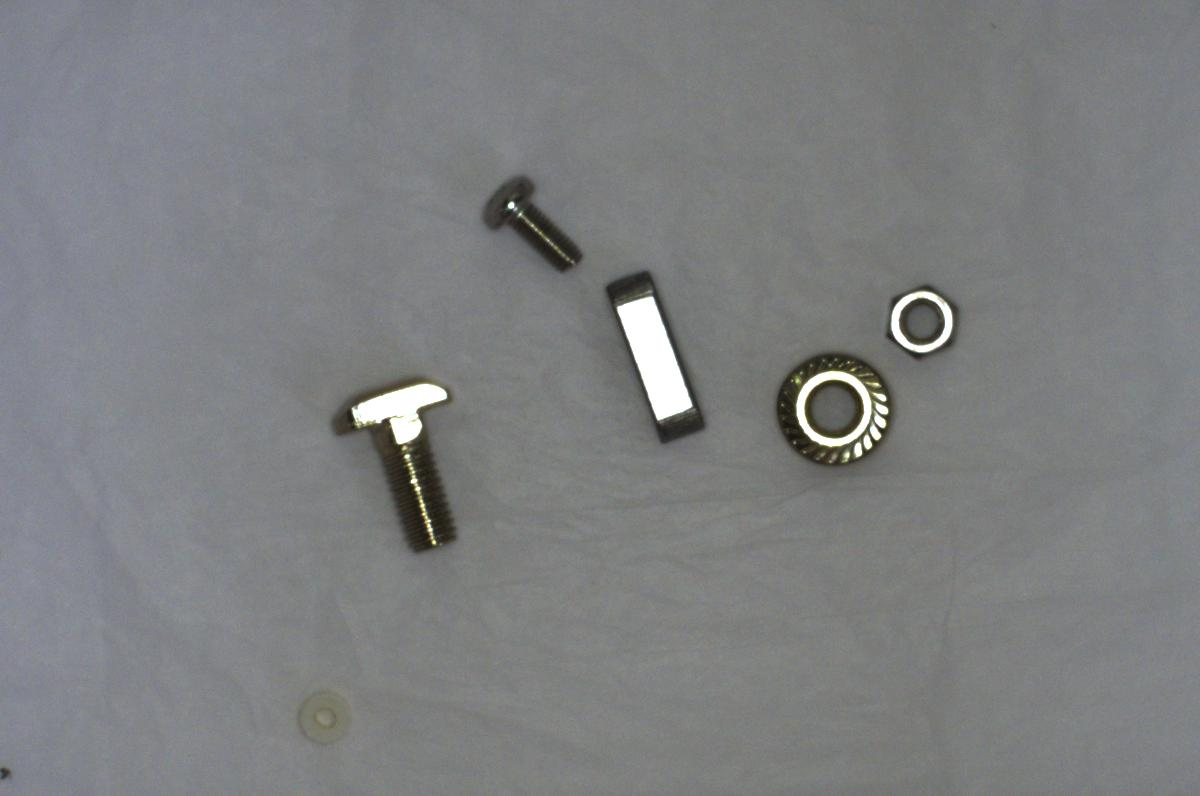Flange nut: (770, 349, 896, 465)
Hexagon nut: (883, 278, 961, 362)
Keybar: (597, 262, 712, 451)
Plastic cushion pillar: (293, 680, 356, 749)
Round head screw: (479, 174, 584, 274)
T-shaped screw: (335, 376, 470, 565)
